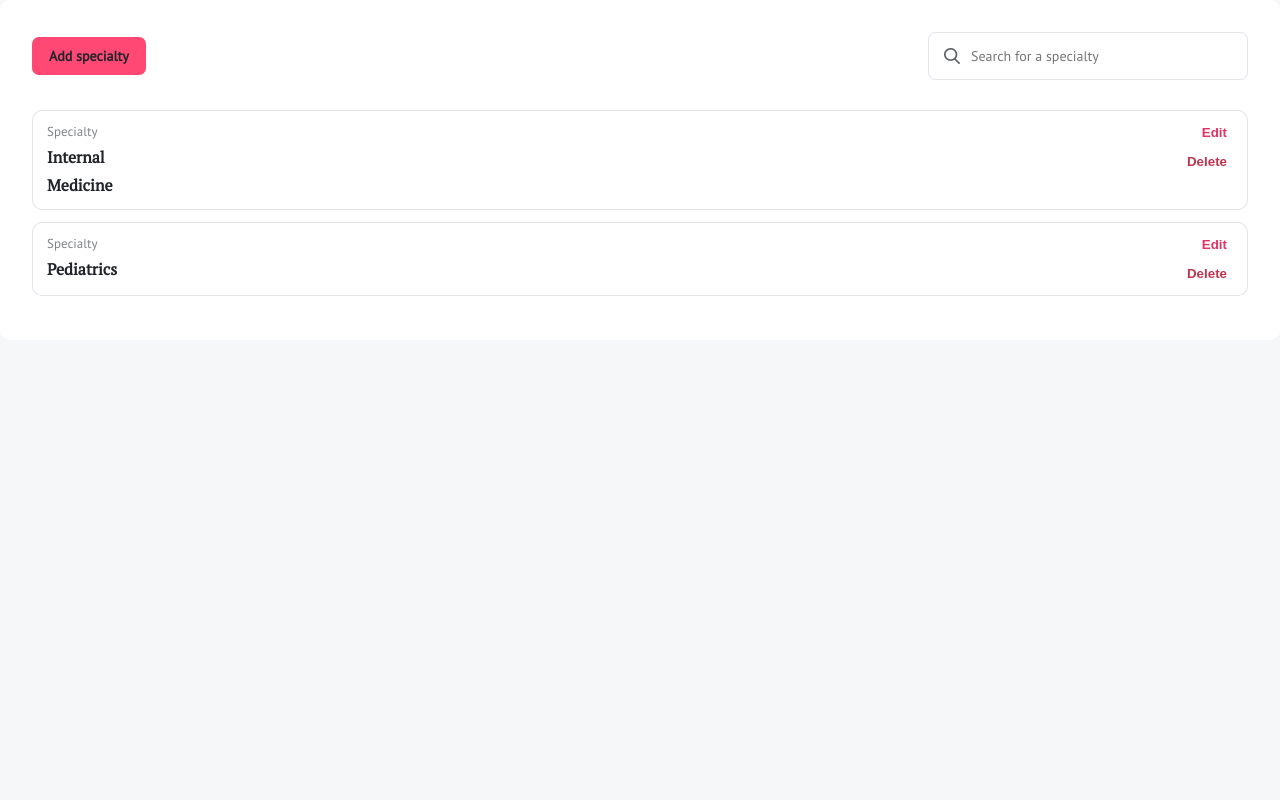
SpecialtiesPage › creates a specialty
expect the text "Internal Medicine" is shown: met, box 47,146 -> 112,196
Click the button "Add specialty": (89, 56) 32,37 -> 146,75
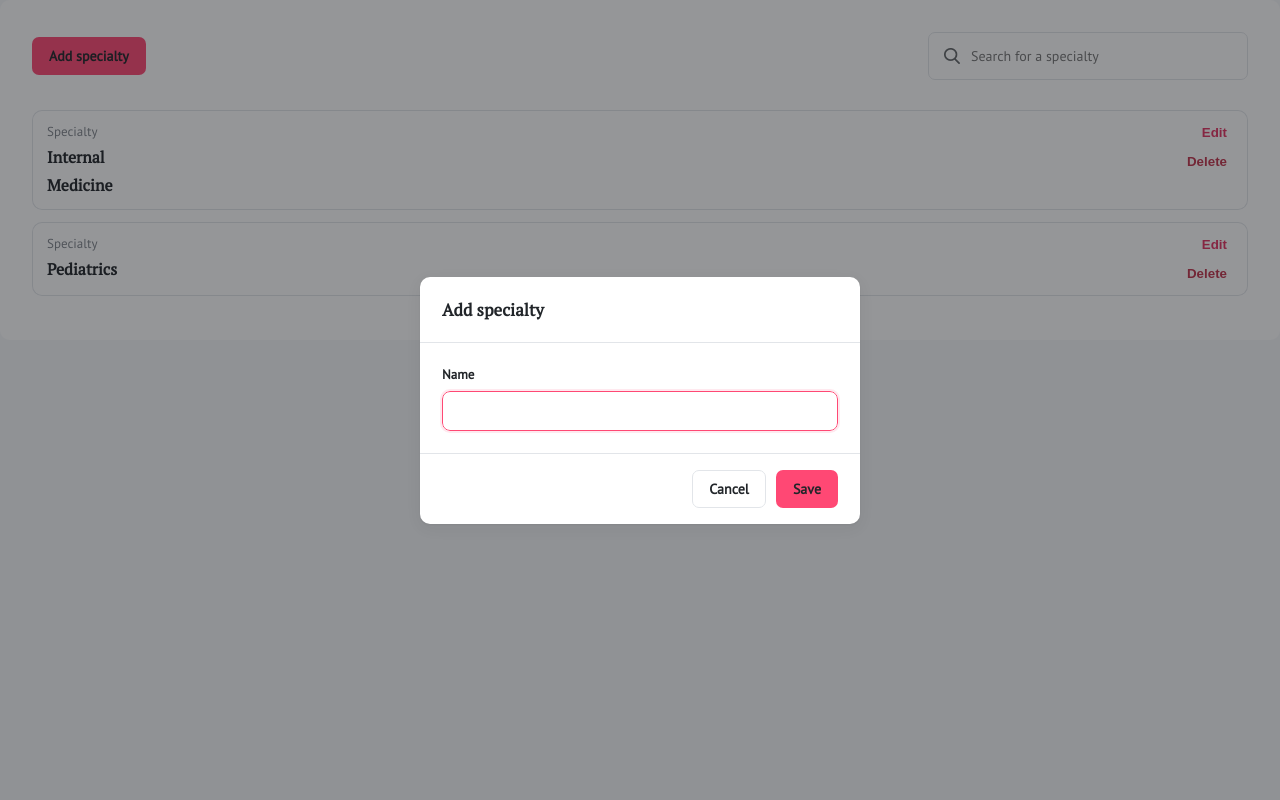
In the field labelled "Name": (640, 410) 442,390 -> 838,430, type "Cardiology"
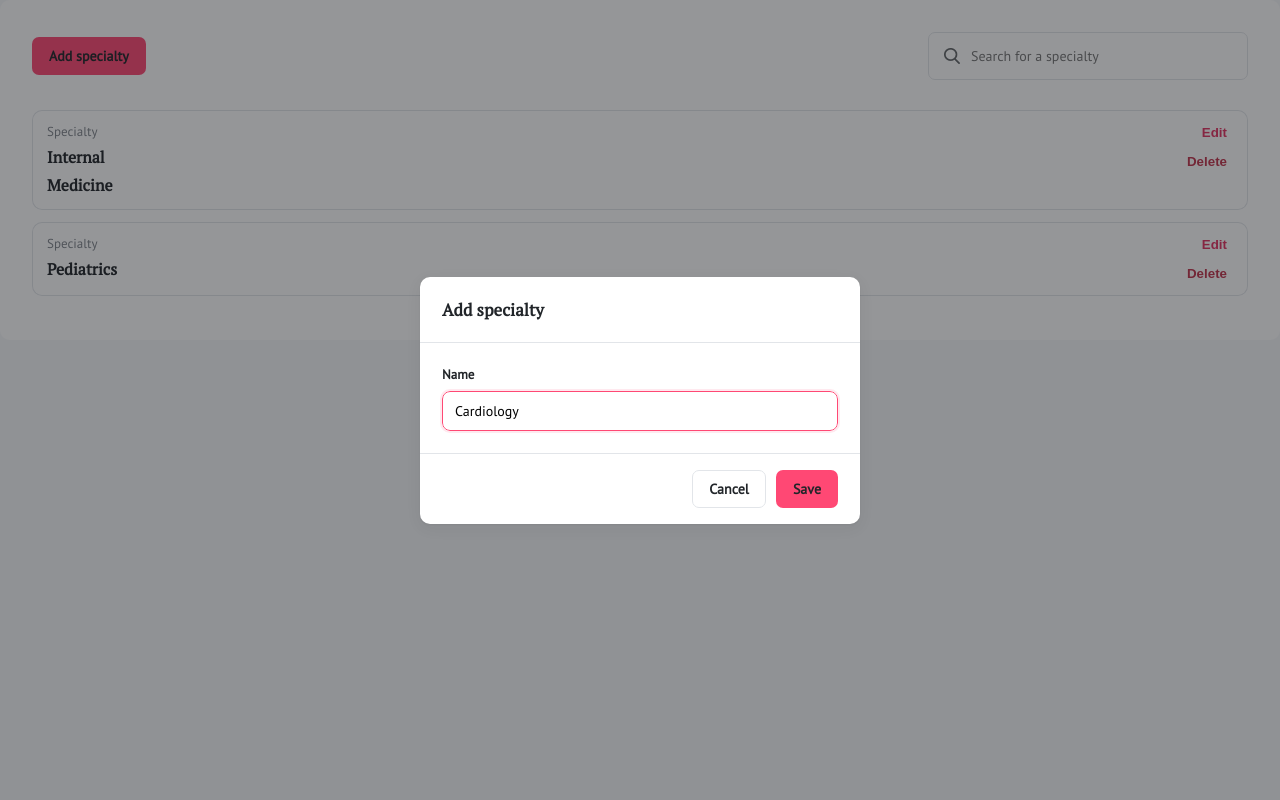
Click the button "Save": (807, 488) 776,470 -> 838,508
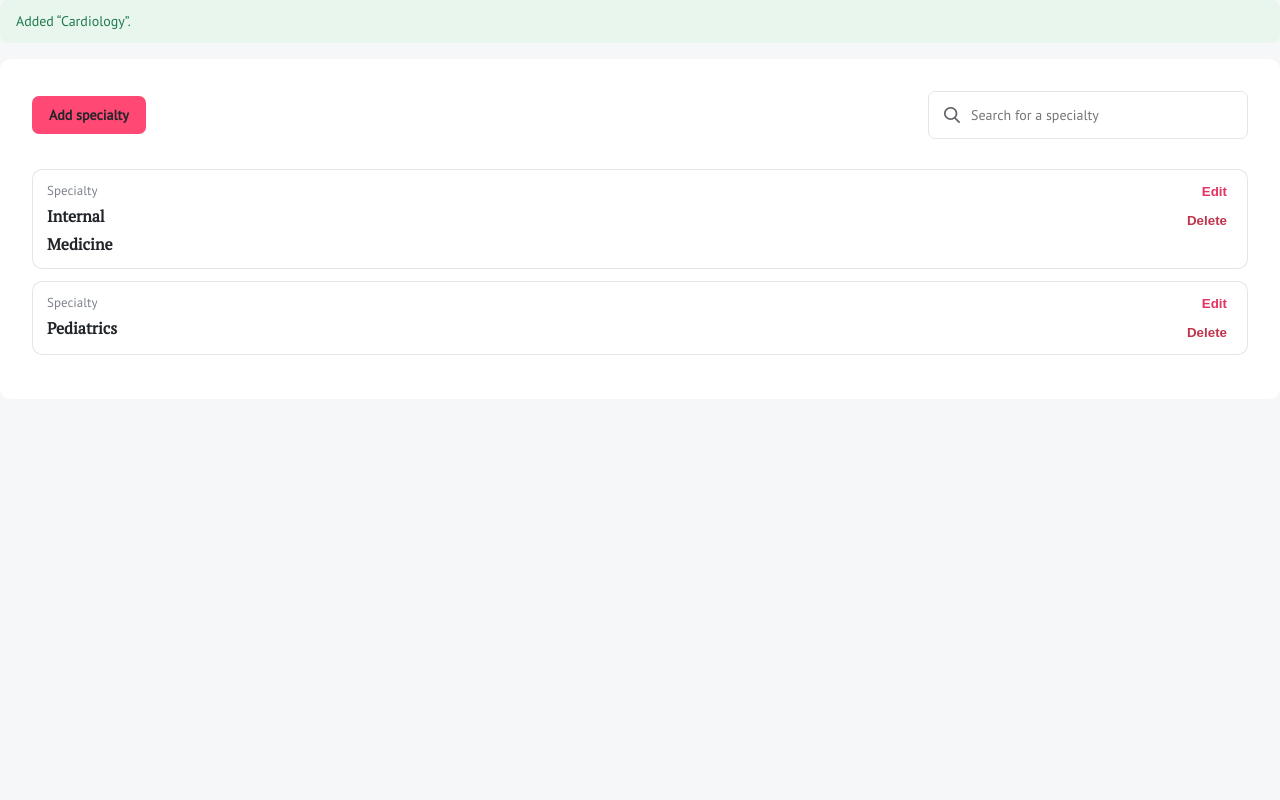
expect the text "Added “Cardiology”." is shown: met, box 0,0 -> 1279,43
